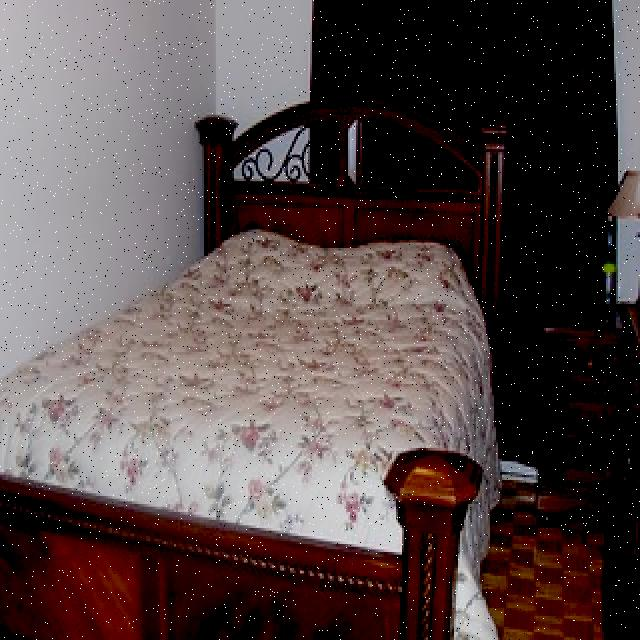bed: (0, 109, 506, 640)
